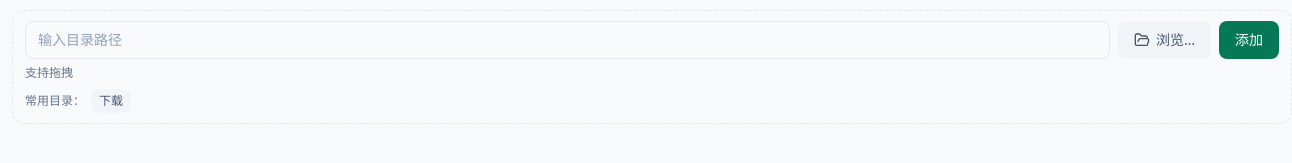
Test: DirectoryAdder › 提交失败显示错误，重新输入时清除
Type "C:/nope" into the field with placeholder "输入目录路径" at (567, 40), box [25,21,1110,59]
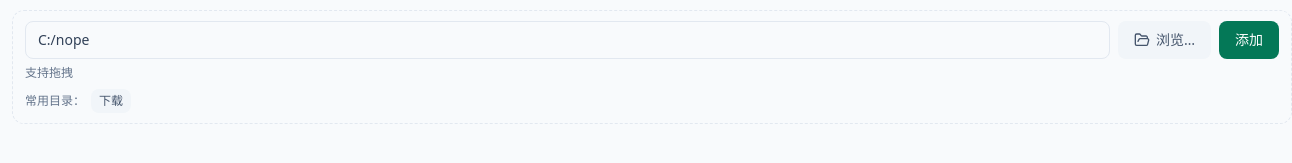
Click the button "添加" at (1249, 40), box [1219,21,1279,59]
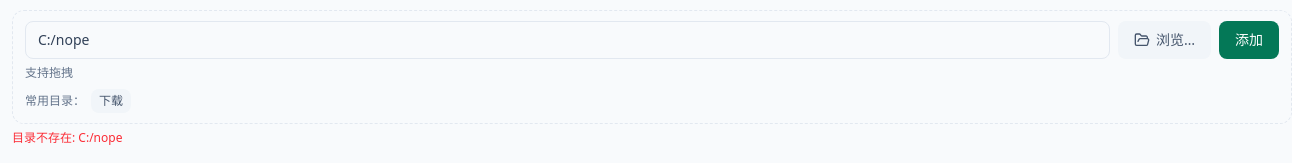
expect the text "目录不存在: C:/nope" is shown: met, box [12,129,122,146]
Replace the text in the field with placeholder "输入目录路径" with "C:/ok" at (567, 40), box [25,21,1110,59]
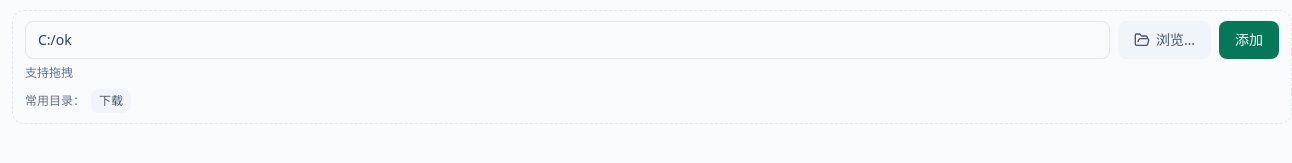
expect the text "目录不存在: C:/nope" is gone: met
